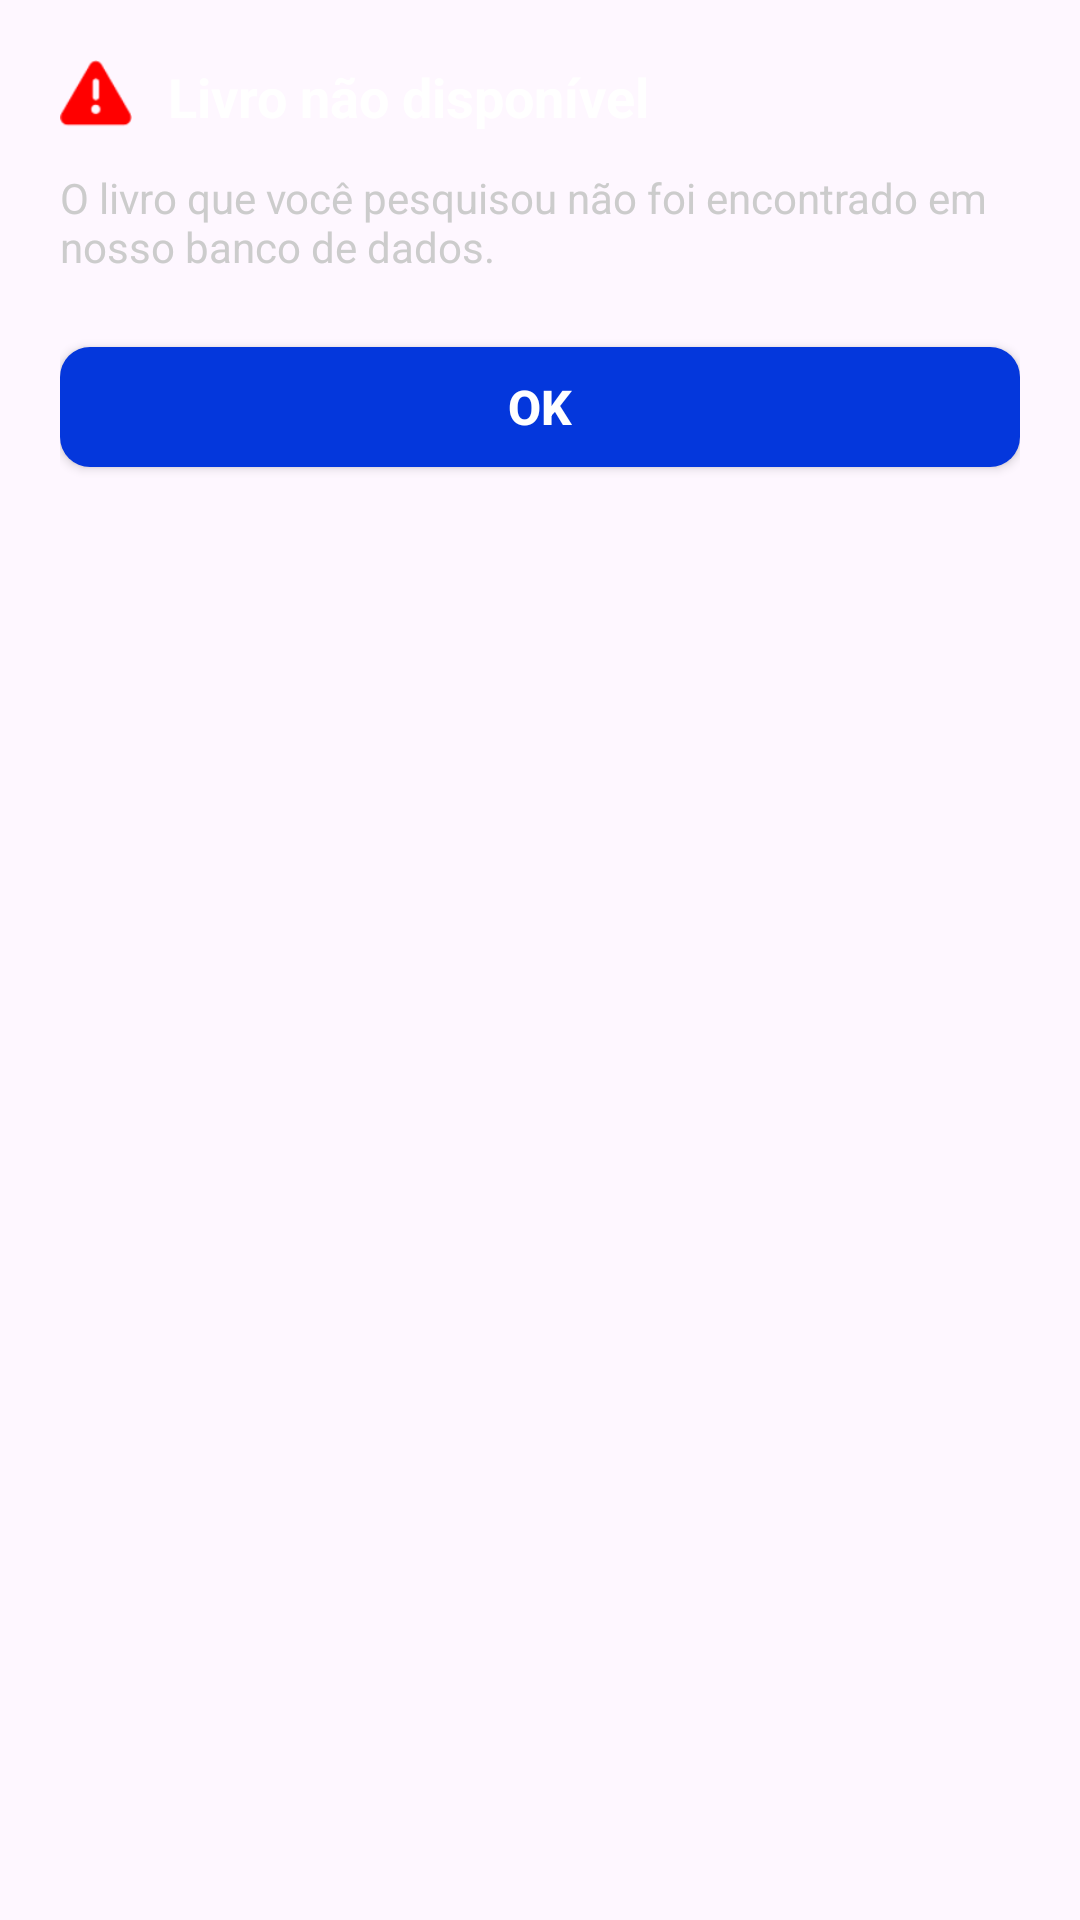

Named icons in this screenshot (1080x1920) and their bounding boxes, (x1, y1, x2, y2):
alert: (60, 60, 132, 126)
